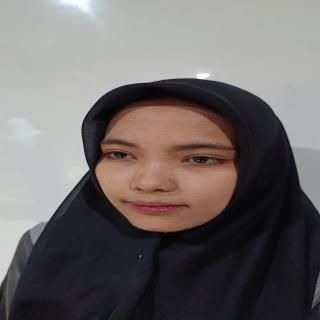Netral: (87, 100, 252, 241)
